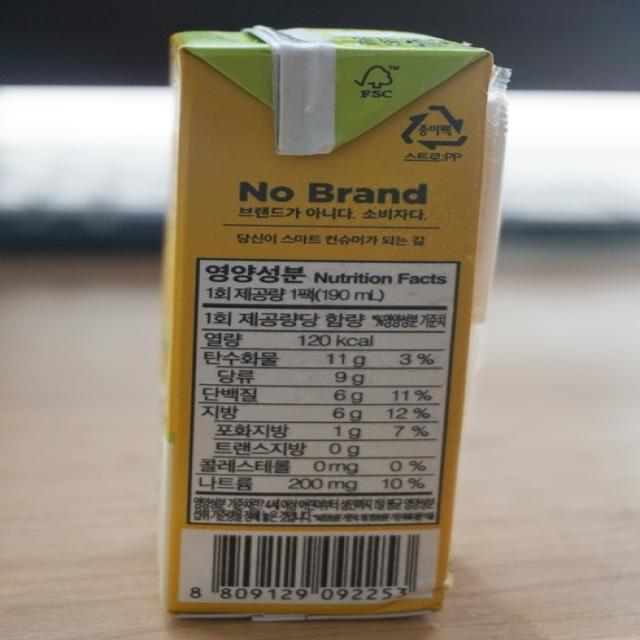Tetra: (157, 22, 480, 621)
